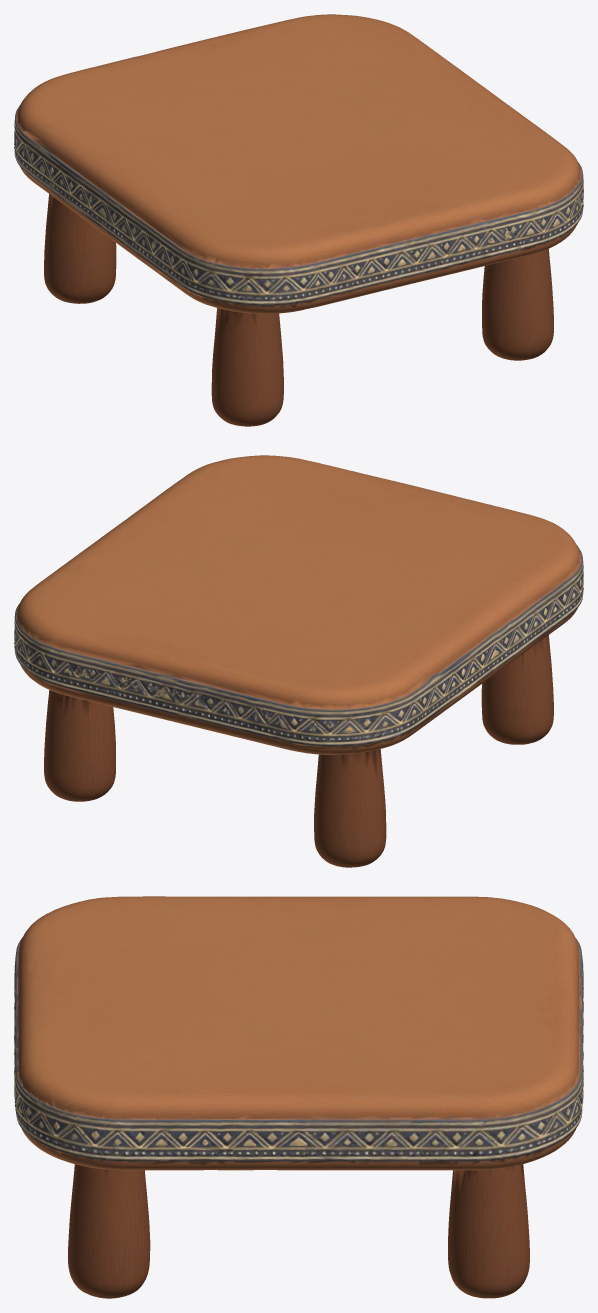
Rendered from KR_사물_s1_table_4seat_old.glb.
3 renders of one model, top to bottom at view 1: azimuth 30°, elevation 25°; view 2: azimuth 150°, elevation 25°; view 3: azimuth 270°, elevation 25°, orthographic. The views are drawn at different scales.
Visible parts, largest first — view 1: tripo_node_e1d2284c-e8a3-4af3-898d-eccc25990b84; view 2: tripo_node_e1d2284c-e8a3-4af3-898d-eccc25990b84; view 3: tripo_node_e1d2284c-e8a3-4af3-898d-eccc25990b84.
Boxes of the visible parts, left/top/right/bottom form: tripo_node_e1d2284c-e8a3-4af3-898d-eccc25990b84: left=14, top=14, right=583, bottom=426; tripo_node_e1d2284c-e8a3-4af3-898d-eccc25990b84: left=14, top=455, right=583, bottom=867; tripo_node_e1d2284c-e8a3-4af3-898d-eccc25990b84: left=14, top=896, right=583, bottom=1298.
Bounding box in the file's own units: 0.9013 × 0.4198 × 0.9998.
1 material, 1 textured.
